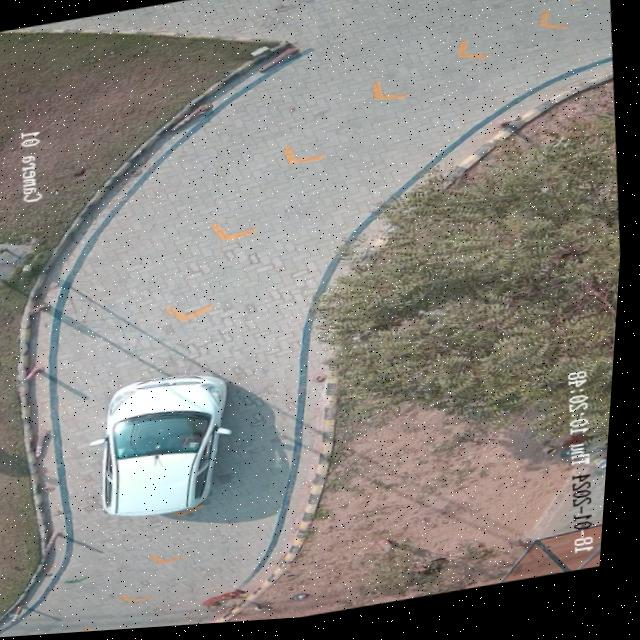car: (106, 377, 234, 519)
